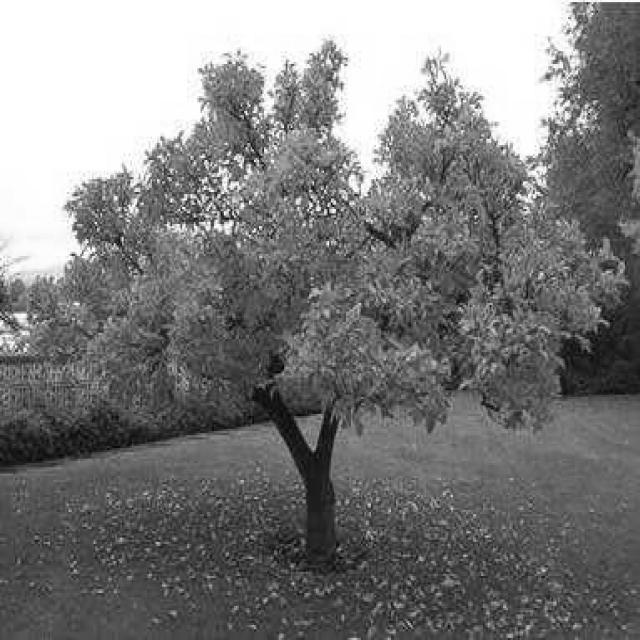Tree: (29, 43, 624, 563)
